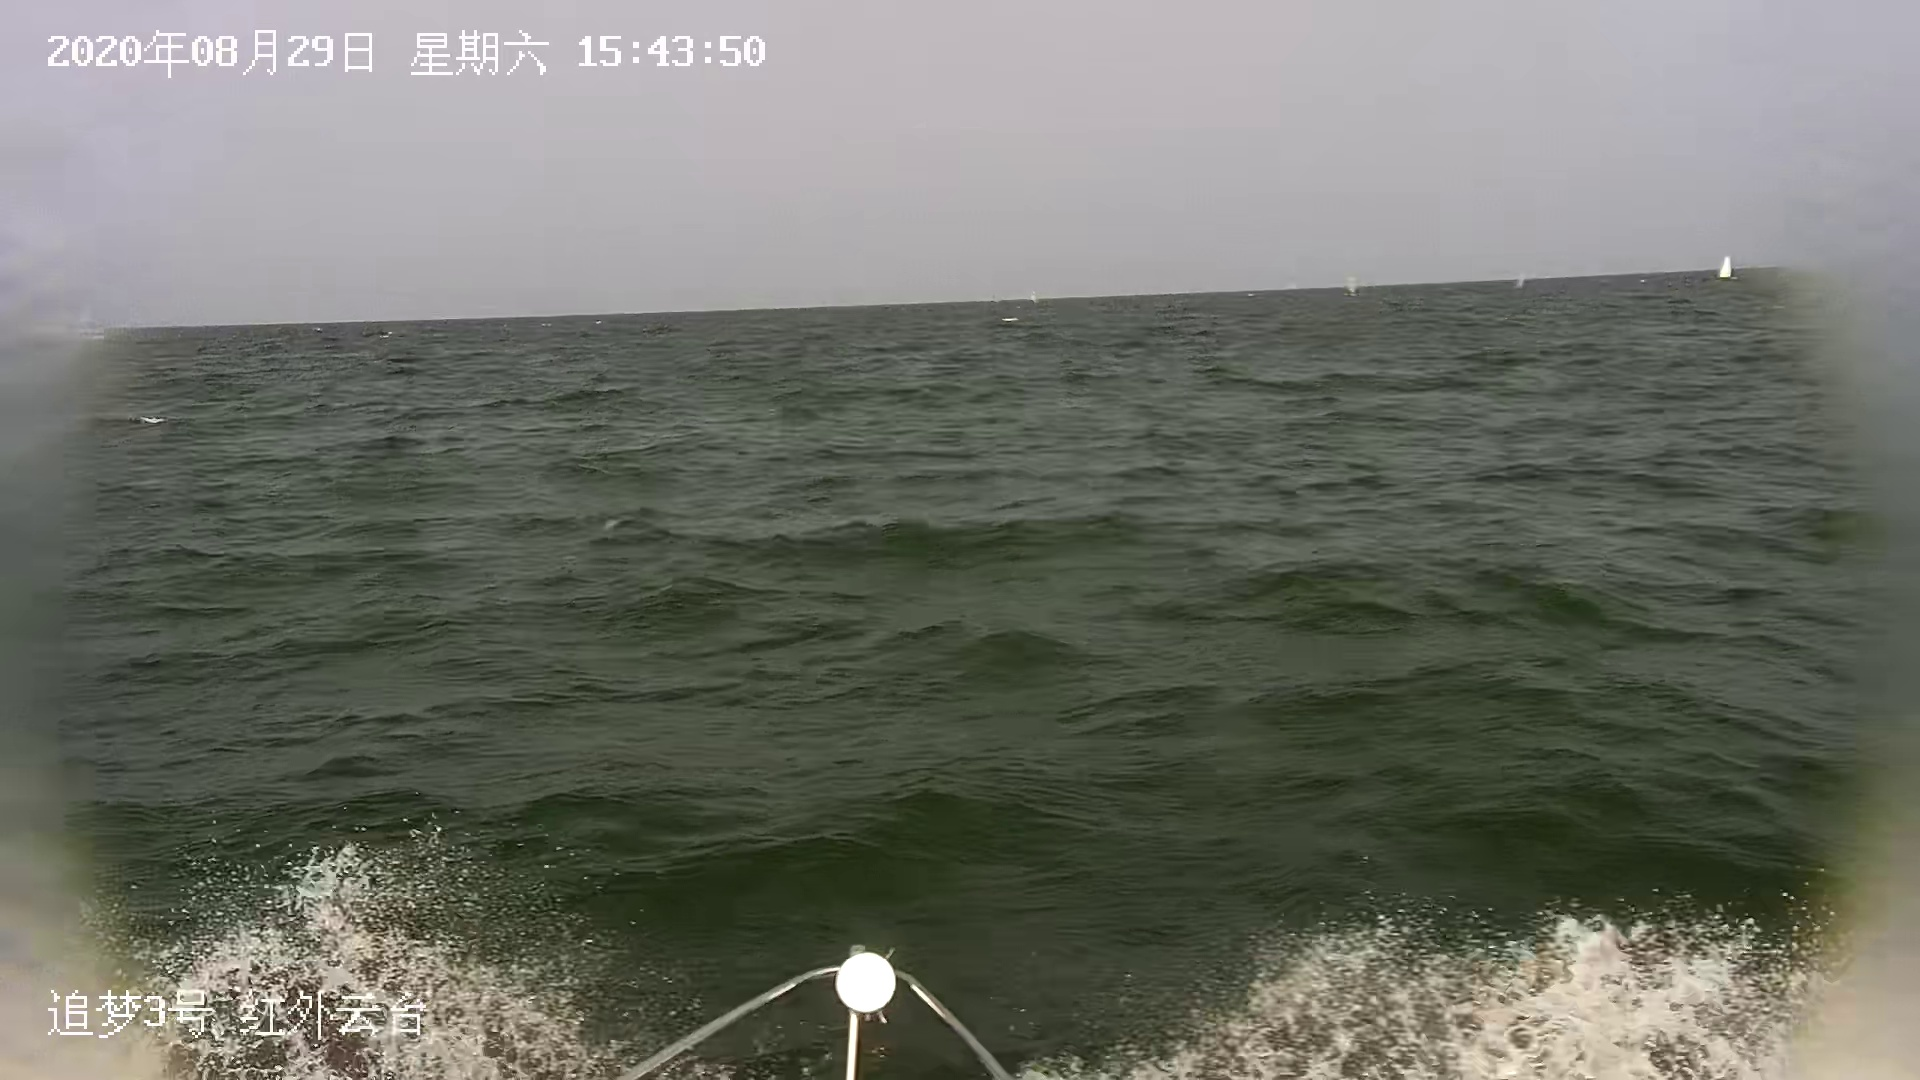barrier: (1720, 253, 1741, 284), (1346, 274, 1361, 299), (1515, 272, 1528, 290), (1029, 289, 1039, 307)
